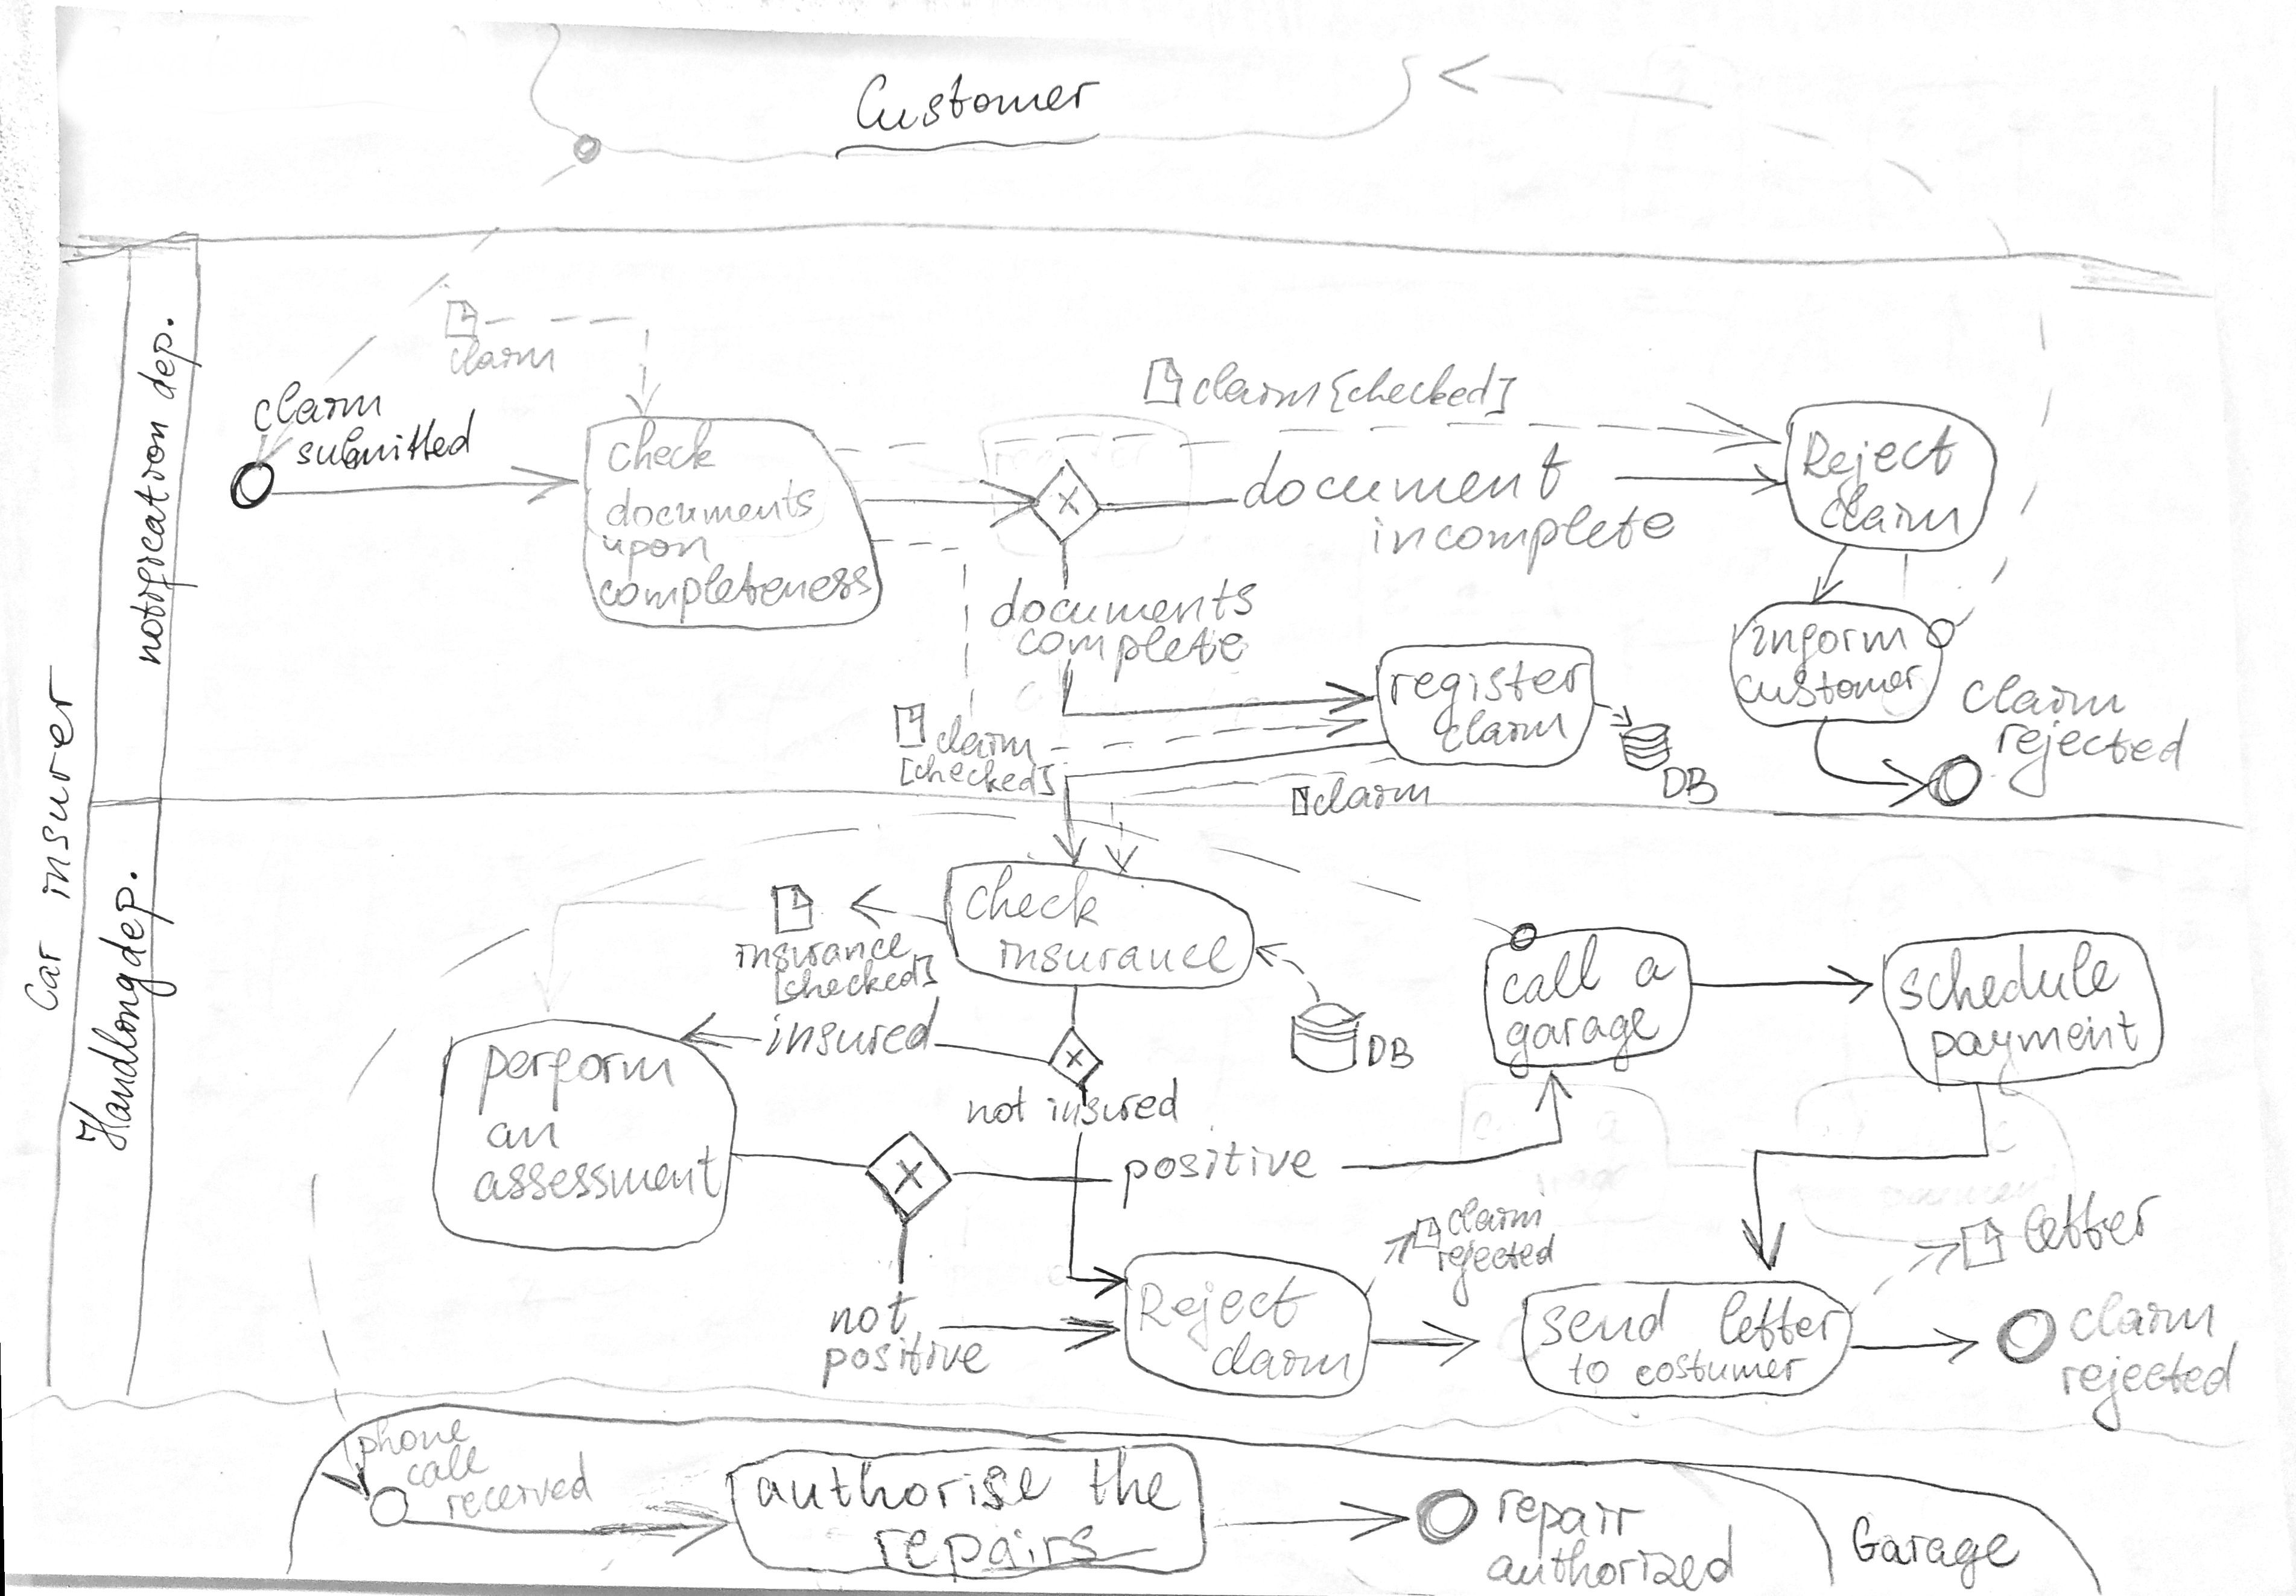Car: (17, 933, 68, 1017)
Customer: (848, 66, 1110, 141)
DB: (1656, 759, 1725, 811), (1361, 1027, 1420, 1076)
Garage: (1842, 1509, 2029, 1596)
Handling: (63, 968, 183, 1158)
Reject: (1795, 419, 1965, 525), (1131, 1268, 1326, 1357)
[checked]: (1322, 356, 1523, 422), (768, 949, 944, 1010), (895, 748, 1063, 804)
a: (1630, 947, 1684, 994)
an: (480, 1113, 565, 1156)
assessment: (466, 1137, 728, 1211)
authorise: (750, 1453, 1061, 1518)
authorized: (1481, 1518, 1743, 1596)
call: (1497, 928, 1609, 1012), (401, 1439, 495, 1495)
check: (960, 860, 1104, 935), (602, 412, 724, 478)
claim: (1813, 474, 1970, 541), (2064, 1286, 2223, 1350), (1956, 666, 2134, 724), (1206, 1324, 1359, 1387), (248, 373, 393, 438), (1185, 354, 1329, 417), (1436, 703, 1575, 759), (928, 708, 1042, 771), (1309, 771, 1438, 822), (443, 331, 564, 382), (1441, 1191, 1548, 1242)
complete: (1010, 619, 1251, 689)
completeness: (593, 555, 879, 628)
costumer: (1630, 1343, 1814, 1394)
customer: (1731, 658, 1928, 715)
dep.: (91, 865, 180, 973), (131, 312, 209, 406)
document: (1235, 433, 1581, 518)
documents: (982, 567, 1263, 633), (598, 473, 822, 534)
garage: (1500, 999, 1666, 1085)
incomplete: (1364, 497, 1682, 583)
inform: (1746, 610, 1914, 689)
insurance: (991, 928, 1244, 982), (728, 928, 918, 979)
insured: (759, 989, 949, 1066), (1040, 1071, 1186, 1132)
insurer: (28, 656, 84, 907)
letter: (2017, 1183, 2169, 1261), (1715, 1284, 1855, 1357)
not: (823, 1286, 926, 1341), (961, 1078, 1033, 1132)
notification: (124, 413, 204, 672)
payment: (1926, 1005, 2146, 1102)
perform: (471, 1036, 684, 1123)
phone: (352, 1413, 476, 1479)
positive: (1115, 1118, 1322, 1217), (815, 1324, 1000, 1395)
received: (441, 1446, 600, 1528)
register: (1382, 654, 1598, 741)
rejected: (2053, 1333, 2245, 1439), (1991, 713, 2195, 804), (1431, 1228, 1561, 1312)
repair: (1490, 1481, 1654, 1566)
repairs: (867, 1518, 1104, 1591)
schedule: (1889, 935, 2129, 1019)
send: (1534, 1280, 1678, 1352)
submitted: (288, 401, 482, 474)
the: (1083, 1439, 1190, 1518)
to: (1563, 1348, 1616, 1390)
upon: (597, 527, 719, 590)
